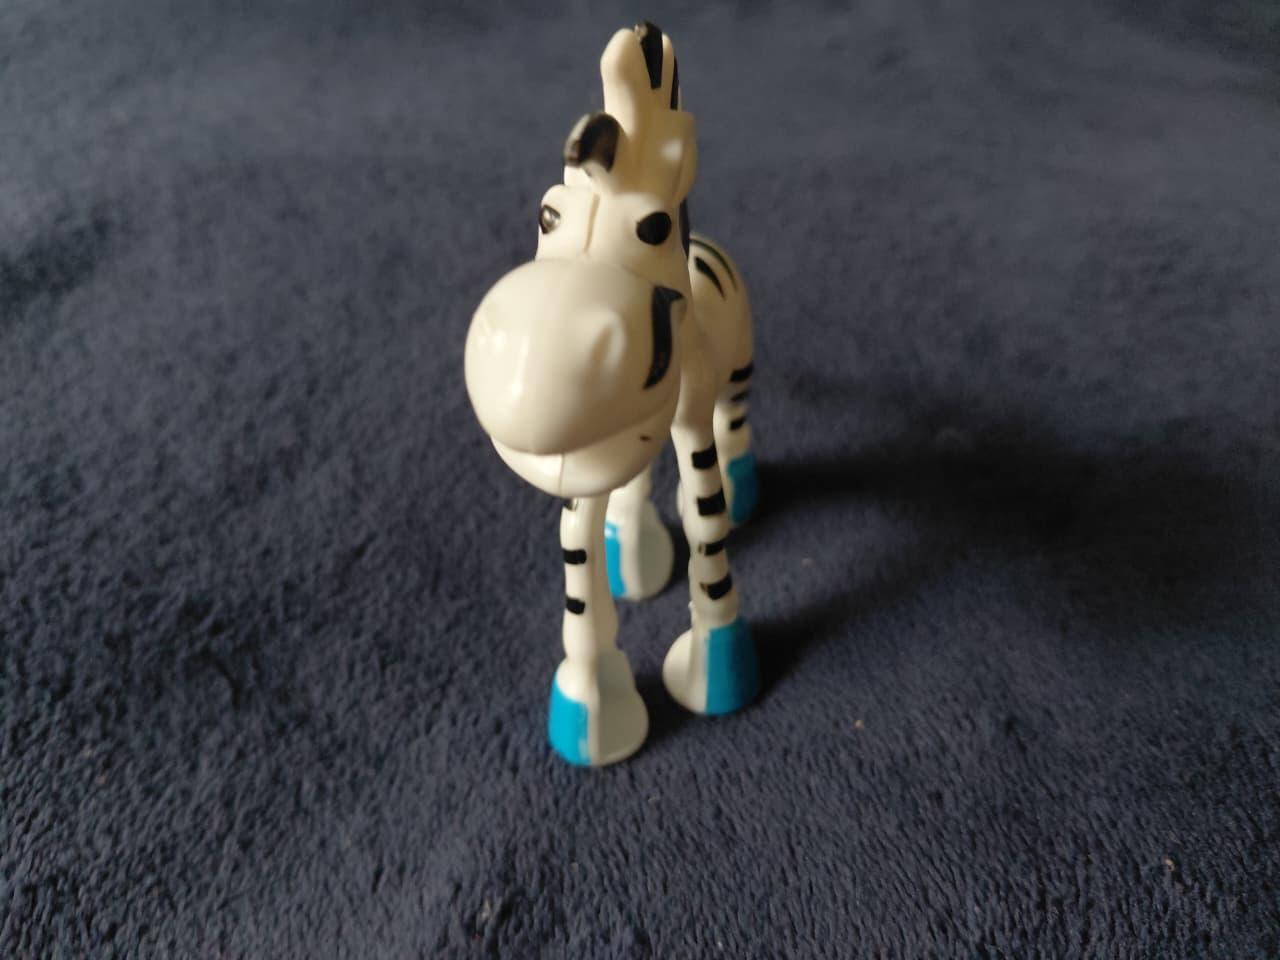zebra: (447, 28, 801, 768)
